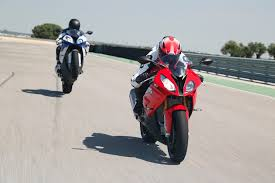bike: (130, 26, 210, 159), (45, 23, 97, 95)
